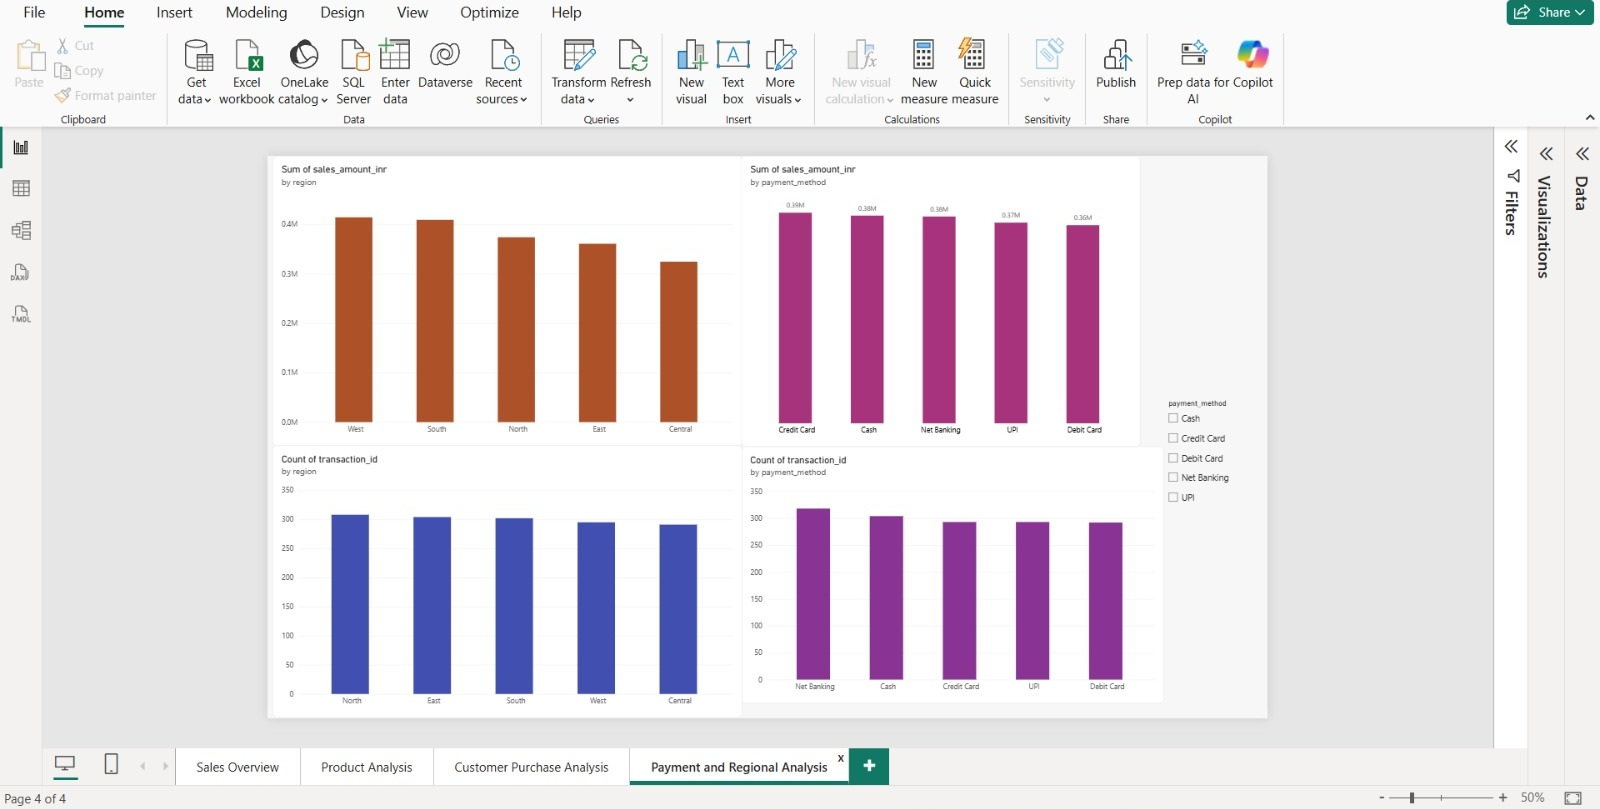

The page's visual inventory and layout, read from the dashboard file:
{"tool":"powerbi","page":{"name":"Payment and Regional Analysis","canvas":[1920,1080],"ordinal":3},"visuals":[{"type":"clusteredColumnChart","fields":{"Category":["retail_transactions.region"],"Y":["Sum(retail_transactions.sales_amount_inr)"]},"box":[9.1,0,901.7,556.5],"z":0},{"type":"slicer","fields":{"Values":["retail_transactions.payment_method"]},"box":[1721.7,465.6,197.6,227.1],"z":1000},{"type":"clusteredColumnChart","fields":{"Category":["payment_preferences.payment_method"],"Y":["CountNonNull(retail_transactions.transaction_id)"]},"box":[910.8,558.7,810.9,492.9],"z":2000},{"type":"clusteredColumnChart","fields":{"Category":["regional_distribution.region"],"Y":["CountNonNull(retail_transactions.transaction_id)"]},"box":[9.1,556.5,901.7,522.4],"z":3000},{"type":"clusteredColumnChart","fields":{"Category":["retail_transactions.payment_method"],"Y":["Sum(retail_transactions.sales_amount_inr)"]},"box":[910.8,0,765.4,558.7],"z":4000}]}

Visuals, with their boxes on the page's 1920x1080 design canvas (x1, y1, x2, y2). These are canvas units, not pixel positions in the 1600x809 screenshot, which may show the page scaled, cropped or inside an application window:
clusteredColumnChart - retail_transactions.region x Sum(retail_transactions.sales_amount_inr): {"left": 9, "top": 0, "right": 911, "bottom": 556}
slicer - retail_transactions.payment_method: {"left": 1722, "top": 466, "right": 1919, "bottom": 693}
clusteredColumnChart - payment_preferences.payment_method x CountNonNull(retail_transactions.transaction_id): {"left": 911, "top": 559, "right": 1722, "bottom": 1052}
clusteredColumnChart - regional_distribution.region x CountNonNull(retail_transactions.transaction_id): {"left": 9, "top": 556, "right": 911, "bottom": 1079}
clusteredColumnChart - retail_transactions.payment_method x Sum(retail_transactions.sales_amount_inr): {"left": 911, "top": 0, "right": 1676, "bottom": 559}
